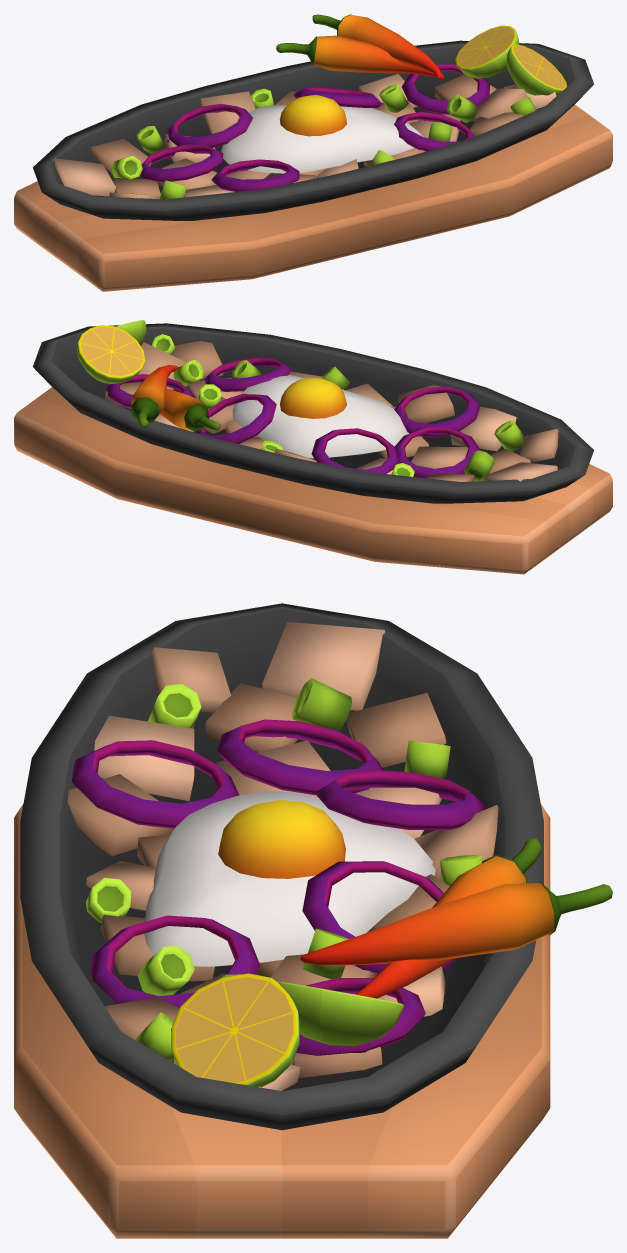
The model's file is lpb_food_sisig.fbx.
The picture shows the model from 3 angles, top to bottom: view 1: azimuth 30°, elevation 25°; view 2: azimuth 150°, elevation 25°; view 3: azimuth 270°, elevation 25°; orthographic projection. The views are drawn at different scales.
Parts seen in each view (by area): view 1: ssig; view 2: ssig; view 3: ssig.
Part boxes in pixels (left/top/right/bottom): ssig: left=14, top=14, right=612, bottom=291; ssig: left=14, top=320, right=612, bottom=574; ssig: left=14, top=603, right=612, bottom=1238.
Bounding box in the file's own units: 81.31 × 15.78 × 40.2.
